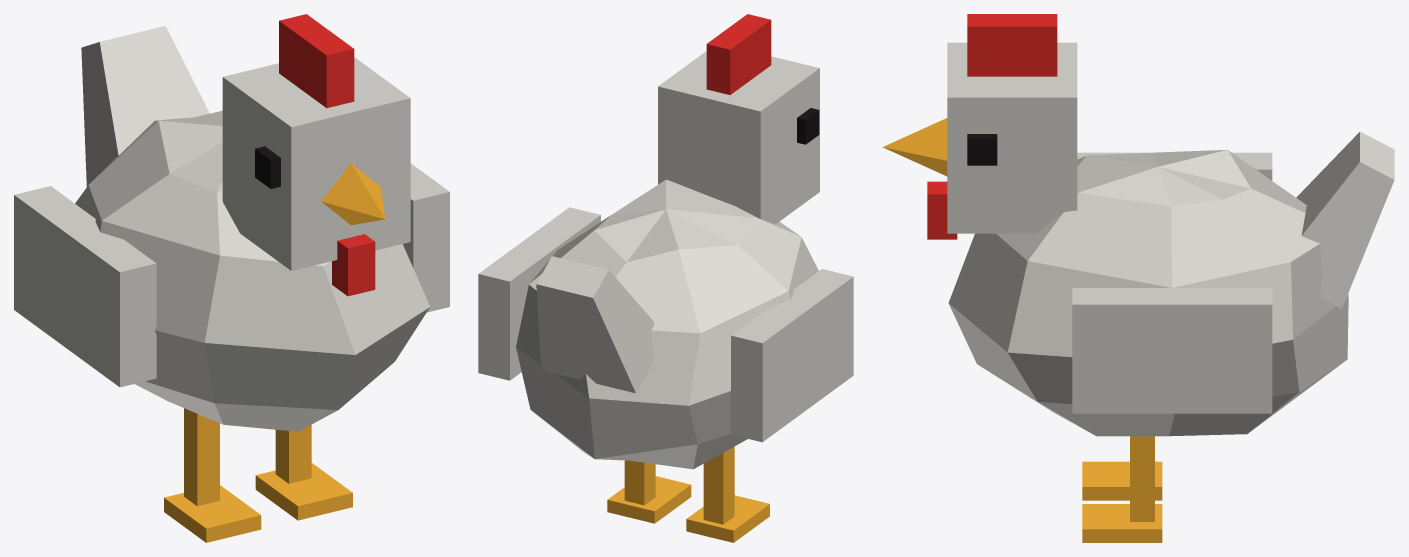
File: chicken.obj
The picture shows the model from 3 angles, left to right: view 1: azimuth 30°, elevation 25°; view 2: azimuth 150°, elevation 25°; view 3: azimuth 270°, elevation 25°; orthographic projection. The views are drawn at different scales.
Parts seen in each view (by area): view 1: body, head, wing_l, leg_l, leg_r, wing_r; view 2: body, head, wing_l, wing_r, leg_l, leg_r; view 3: body, head, wing_r, leg_r, leg_l, wing_l.
Boxes of the visible parts, x1,y1,x2,y2 form: body: (75, 26, 429, 431); head: (222, 14, 410, 296); wing_l: (14, 186, 156, 387); leg_l: (164, 408, 261, 542); leg_r: (255, 424, 352, 520); wing_r: (403, 163, 449, 312); body: (516, 179, 818, 469); head: (658, 14, 819, 224); wing_l: (731, 269, 853, 442); wing_r: (478, 207, 600, 380); leg_l: (686, 446, 769, 542); leg_r: (607, 460, 691, 523); body: (948, 131, 1394, 436); head: (882, 14, 1077, 239); wing_r: (1072, 288, 1272, 413); leg_r: (1082, 436, 1162, 542); leg_l: (1082, 461, 1162, 500); wing_l: (1077, 152, 1272, 180).
Size of the model in its own units: 0.36 by 0.5395 by 0.5123.
